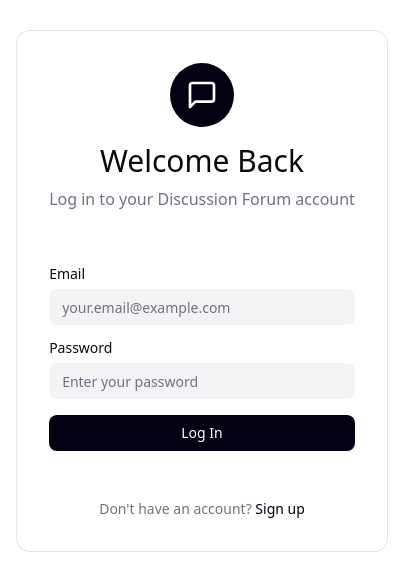
Test: Login E2E Tests › should display alert when password is empty
Note: hanya isi email lalu submit
Type "user@example.com" into the field with test id "email-input". click: (202,307)
box: [49,289,355,325]
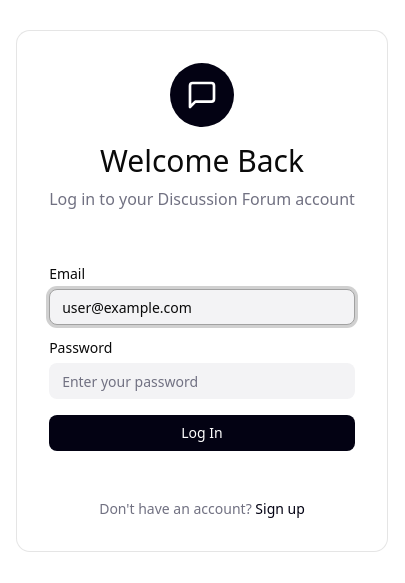
Click the submit button. click: (202,433)
box: [49,415,355,451]
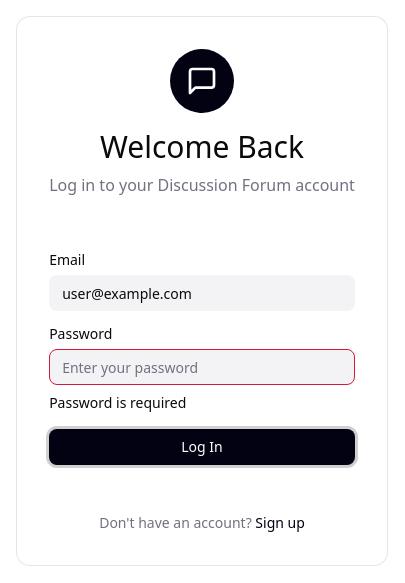
Expected: the text "Password is required" is shown, [49,393,186,412]
